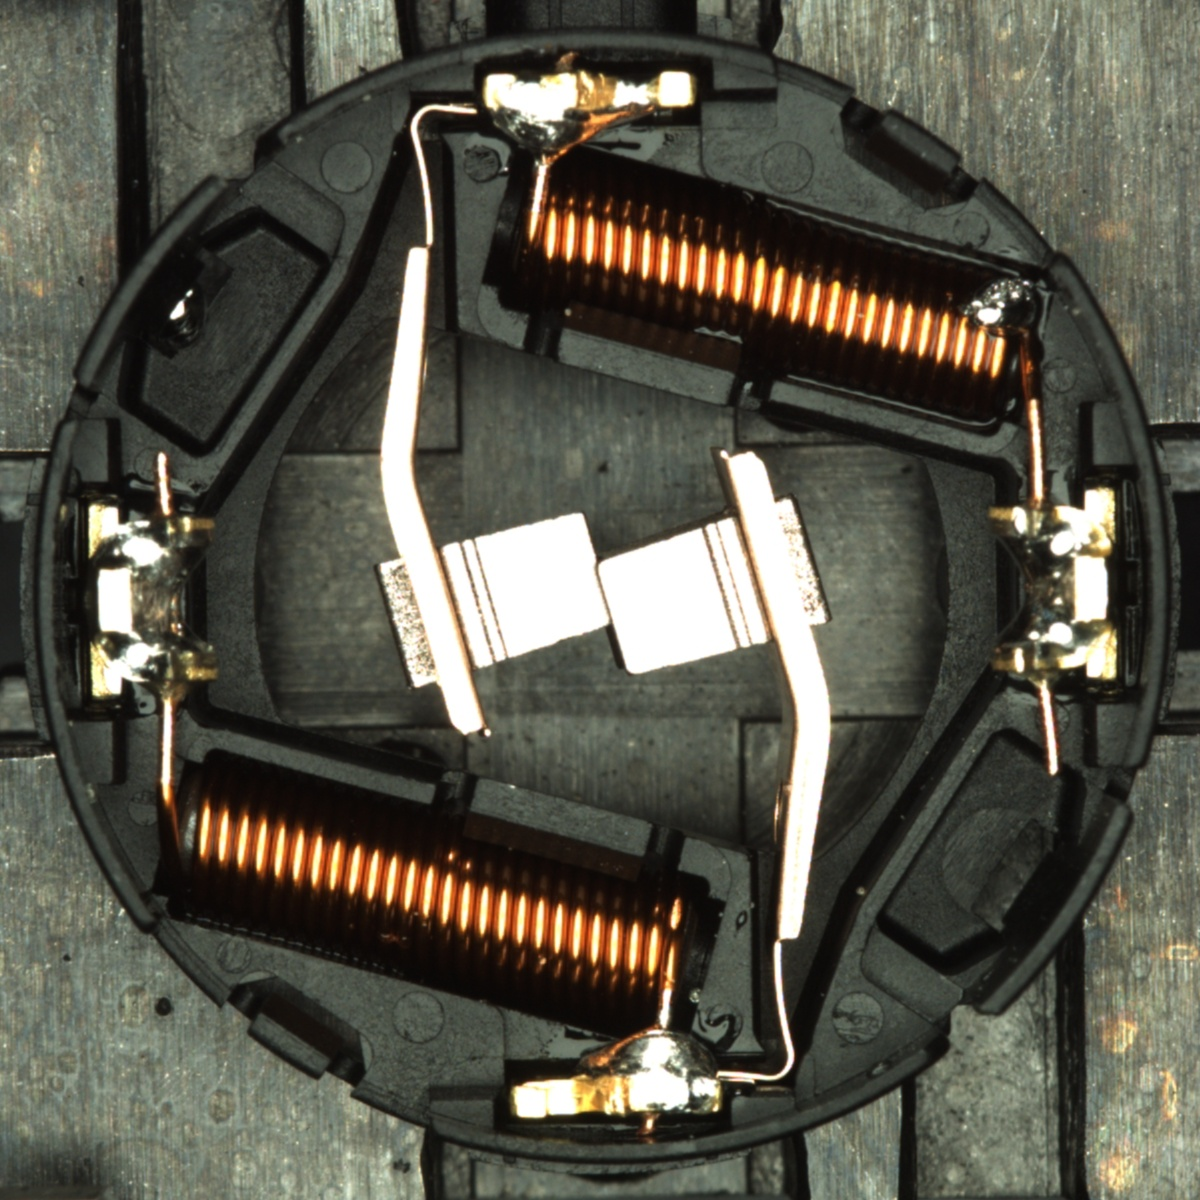1: (257, 32, 486, 256), (715, 930, 944, 1154)
2: (715, 32, 944, 256), (257, 930, 486, 1154)
3: (944, 705, 1174, 930)
4: (257, 256, 486, 481), (715, 705, 944, 930)
5: (486, 144, 715, 369), (486, 817, 715, 1042)
6: (715, 256, 944, 481), (257, 705, 486, 930)
7: (27, 705, 257, 930)
cacbon: (397, 500, 804, 686)
chau_dien: (982, 487, 1123, 685)
tay_choi: (481, 66, 700, 165), (508, 1022, 723, 1121)
thanh_de: (954, 784, 1141, 1033)
vun_chi: (961, 276, 1038, 331), (161, 282, 205, 348)
